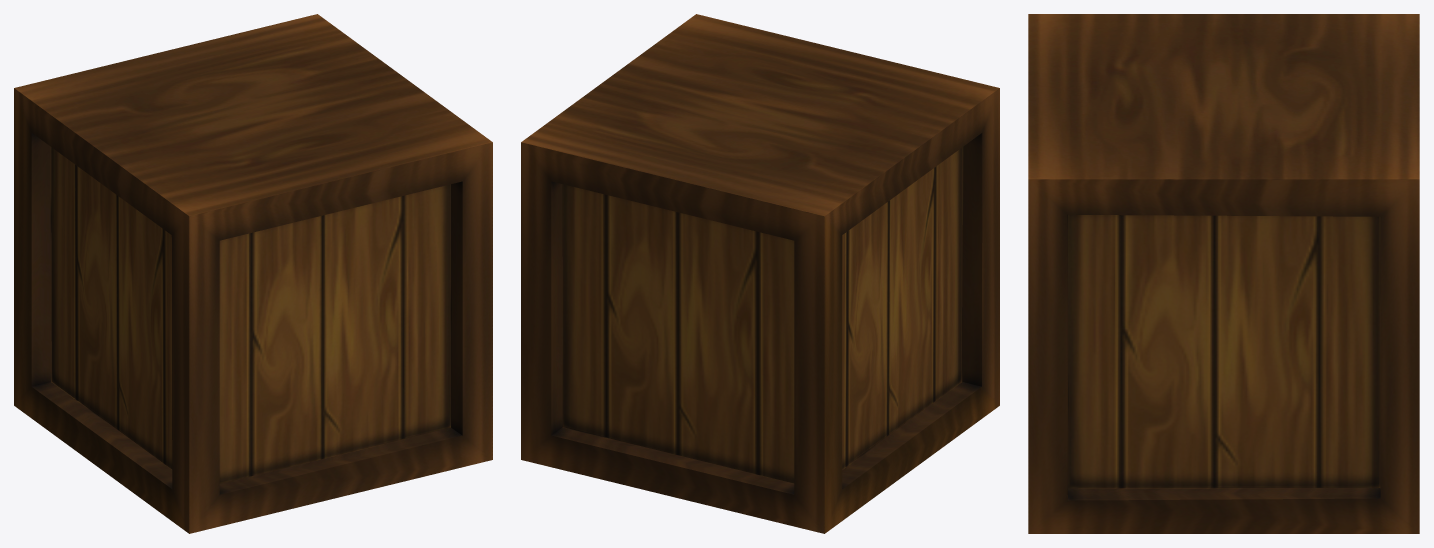
Rendered from woodenbox.fbx.
3 views of the same model, side by side, from view 1: azimuth 30°, elevation 25°; view 2: azimuth 150°, elevation 25°; view 3: azimuth 270°, elevation 25° (orthographic). The views are drawn at different scales.
Visible parts, largest first — view 1: wooden_box; view 2: wooden_box; view 3: wooden_box.
Boxes of the visible parts, bbox=[...] form: wooden_box: bbox=[14, 14, 492, 533]; wooden_box: bbox=[521, 14, 999, 533]; wooden_box: bbox=[1028, 14, 1419, 533].
Bounding box in the file's own units: 202 × 200 × 200.
1 material, 1 textured.
